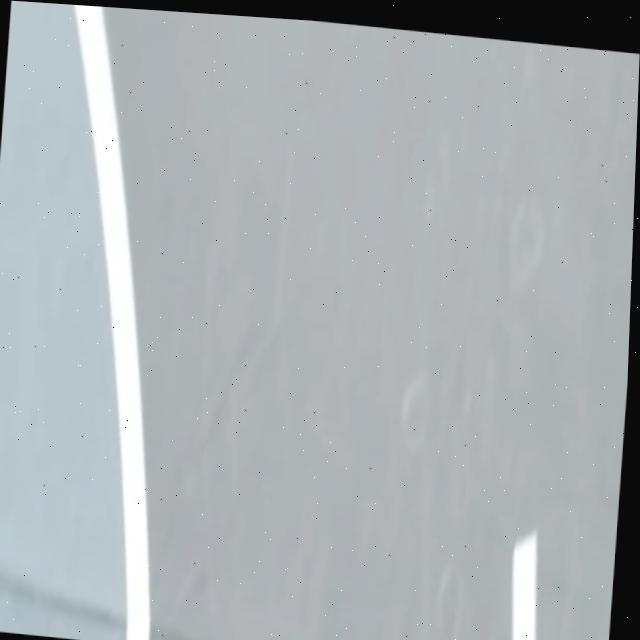center: (512, 531, 536, 640)
left: (72, 5, 148, 640)
